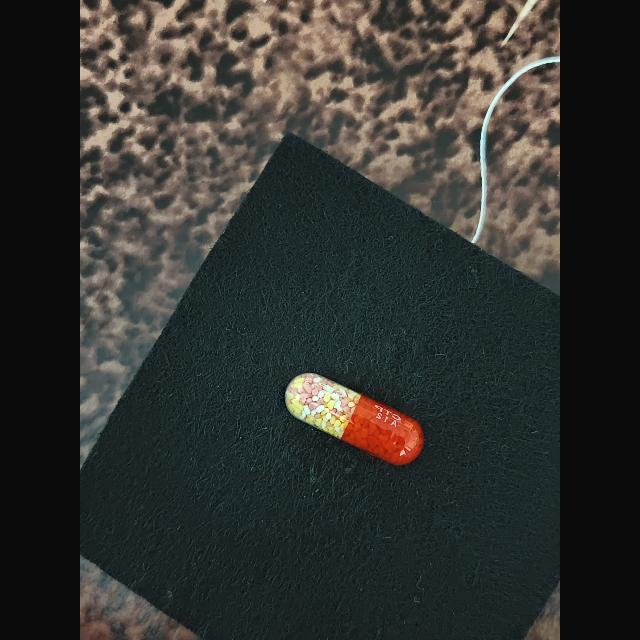Intact Capsule: (285, 373, 424, 465)
